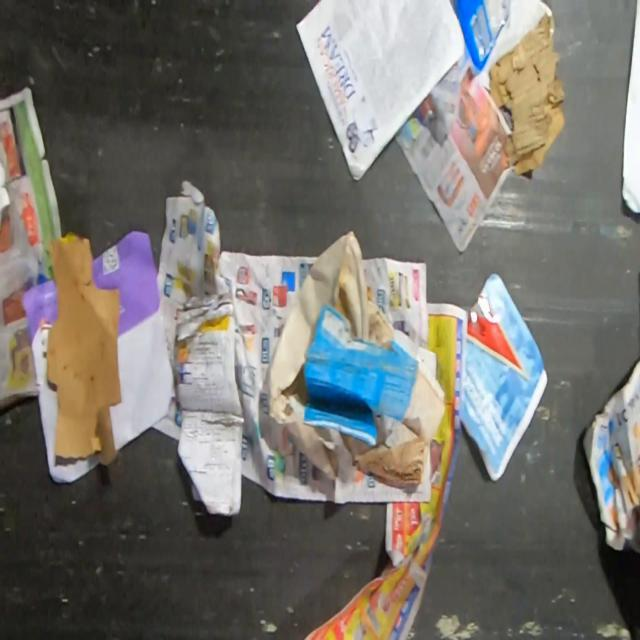cardboard: (266, 228, 448, 492), (460, 271, 550, 482), (46, 229, 122, 467), (488, 12, 566, 176), (581, 358, 639, 555)
soft_plastic: (449, 0, 510, 72)
